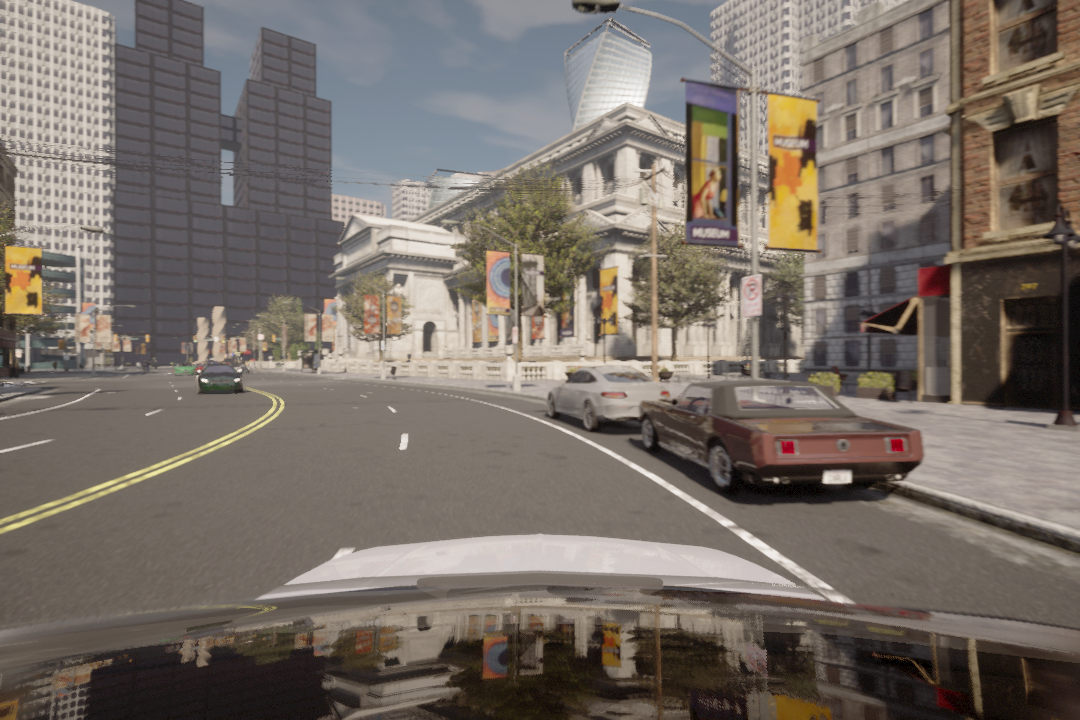TrafficSign_nstop: (741, 272, 761, 316)
